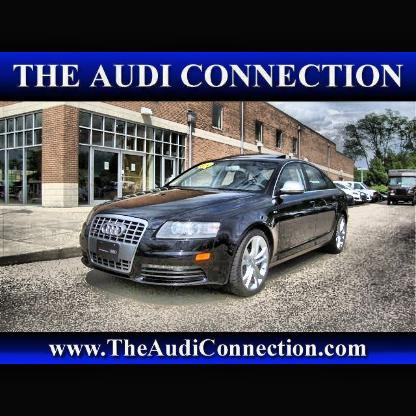Audi S6 Sedan 2011: (67, 148, 368, 309)
